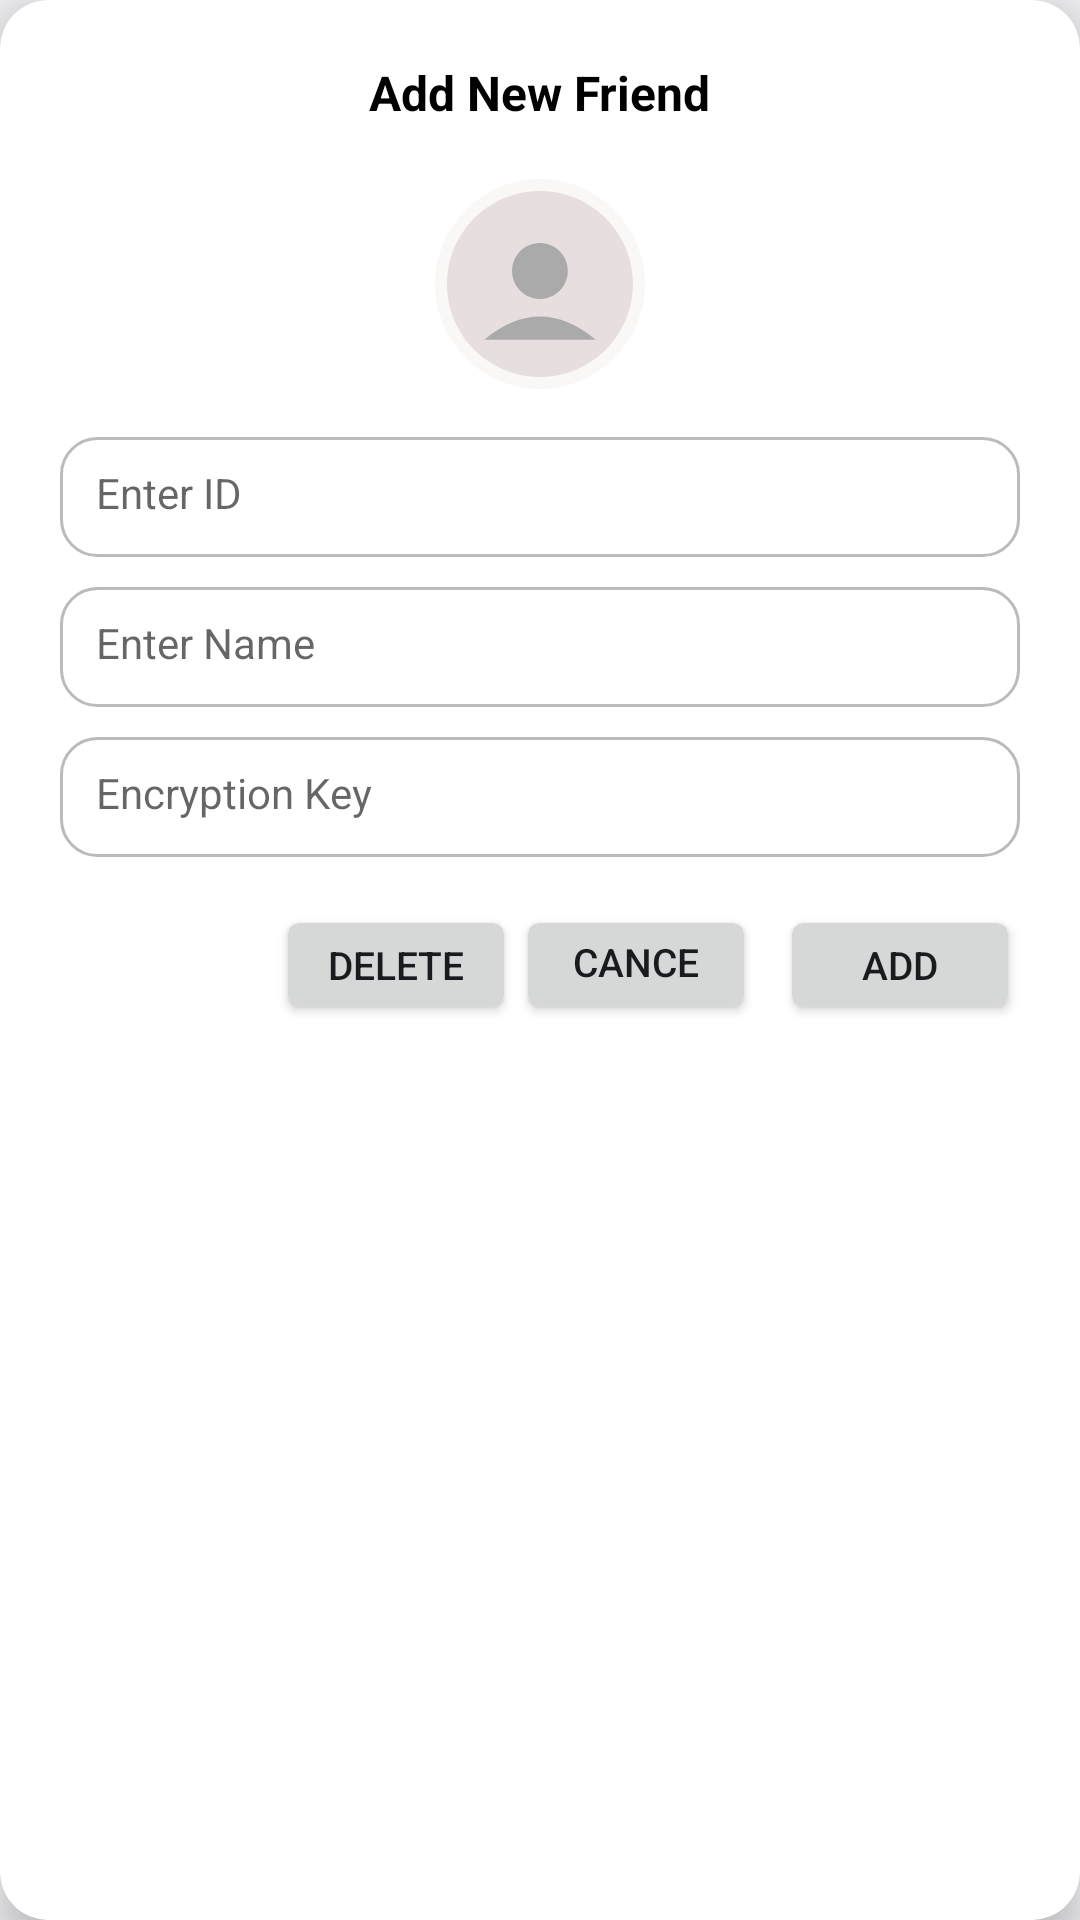

Named icons in this screenshot (1080px x 1920px) and their centers, (x=x, y=y):
Profile Picture: (x=540, y=284)
